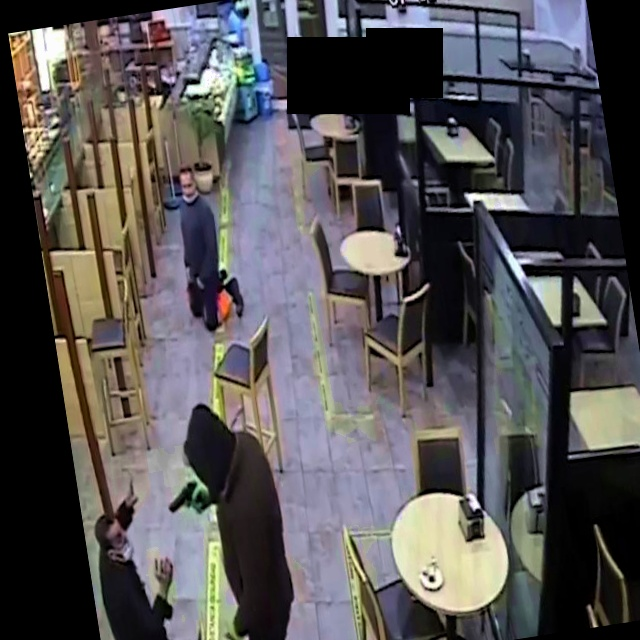gun: (155, 471, 211, 534)
